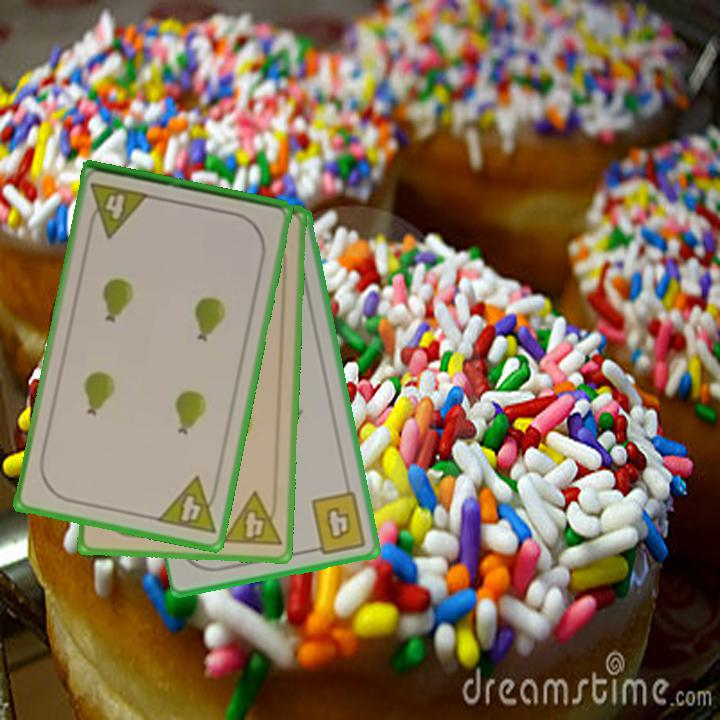4b: (306, 488, 370, 557)
4p: (153, 473, 223, 538), (84, 179, 152, 241), (219, 489, 284, 550)
